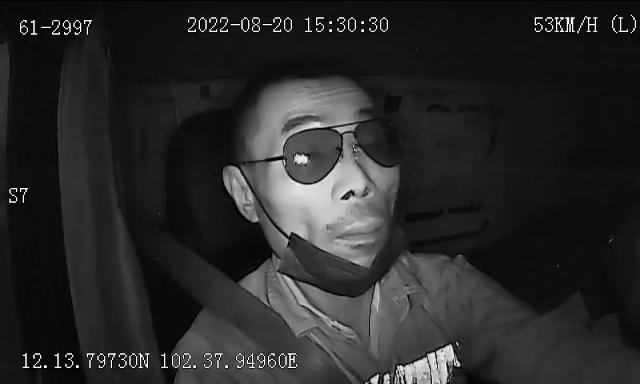SafeDriving: (285, 145, 329, 174)
Seatbelt: (160, 232, 350, 384)
